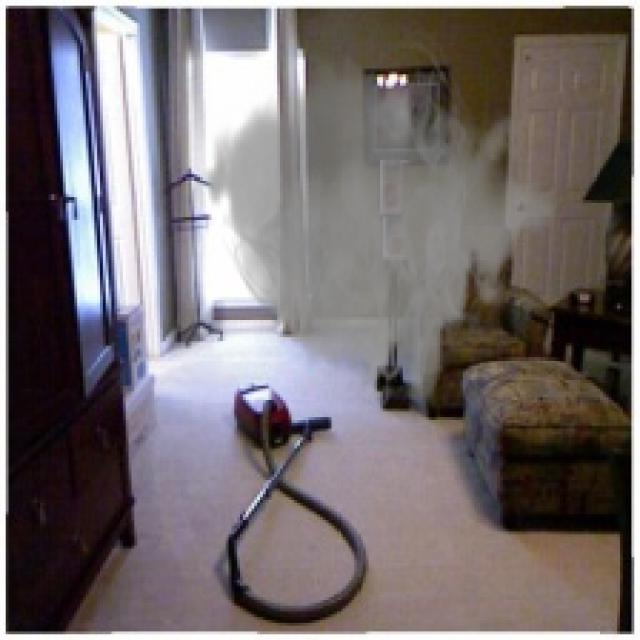smoke: (203, 23, 560, 417)
